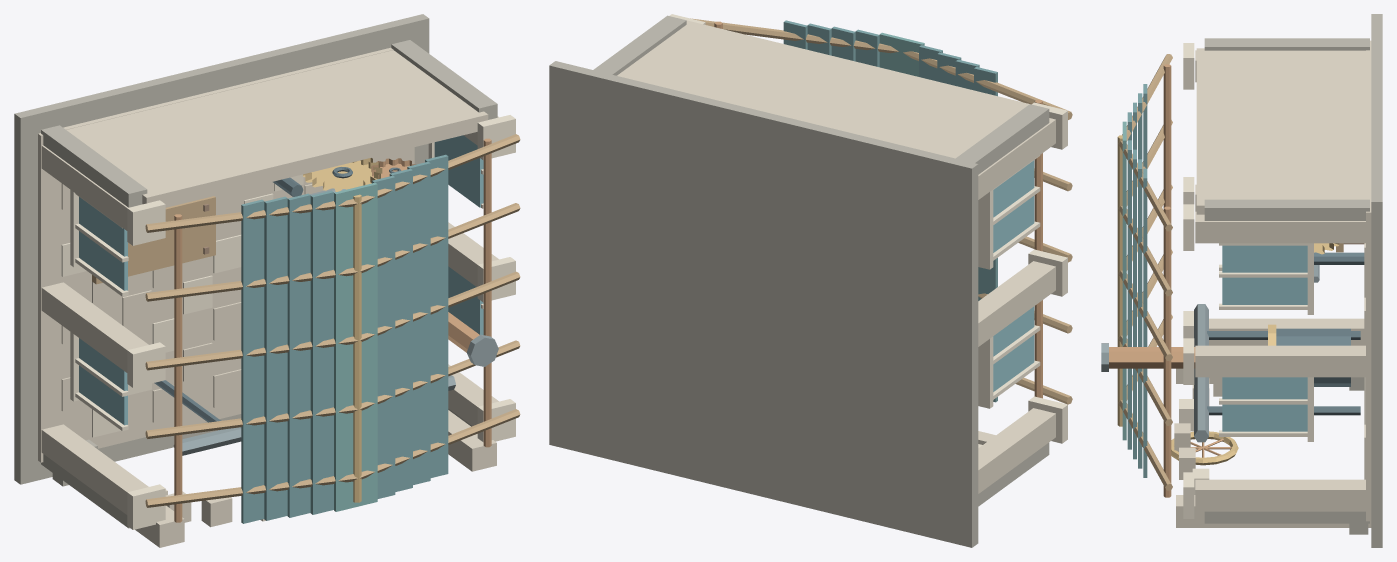
The model's file is founders_workshop_explorer.glb.
3 renders of one model, left to right at view 1: azimuth 30°, elevation 25°; view 2: azimuth 150°, elevation 25°; view 3: azimuth 270°, elevation 25°, orthographic. The views are drawn at different scales.
Visible parts, largest first — view 1: RearMasonry_0067, RaisedStonePlinth_0000, PolishedCourtyard_0001, StandingSeamRoof_0109, StandingSeamRoof_0110, StandingSeamRoof_0111, StandingSeamRoof_0108, StandingSeamRoof_0107, StandingSeamRoof_0122, StandingSeamRoof_0119, StandingSeamRoof_0121, StandingSeamRoof_0120 (+49 smaller); view 2: RaisedStonePlinth_0000, RearMasonry_0067, LimestoneButtress_0053, LimestoneButtress_0055, CornerFascia_0063, BlueGlazedWindow_0068, BlueGlazedWindow_0073, LimestoneButtress_0051, CornerFascia_0064, EaveGutter_0123, CopperRoofRafter_0112, WindowSill_0072 (+11 smaller); view 3: RearMasonry_0067, RaisedStonePlinth_0000, LimestoneButtress_0059, LimestoneButtress_0061, BlueGlazedWindow_0078, BlueGlazedWindow_0083, LimestoneButtress_0057, CornerFascia_0064, PolishedCourtyard_0001, LimestoneButtress_0055, CornerFascia_0063, CornerFascia_0066 (+37 smaller).
Boxes of the visible parts, box(x1,y1,x2,y2) form: RearMasonry_0067: box(66, 50, 488, 207); RaisedStonePlinth_0000: box(14, 14, 429, 484); PolishedCourtyard_0001: box(38, 47, 414, 462); StandingSeamRoof_0109: box(287, 193, 310, 517); StandingSeamRoof_0110: box(264, 196, 287, 520); StandingSeamRoof_0111: box(241, 199, 264, 523); StandingSeamRoof_0108: box(310, 190, 333, 514); StandingSeamRoof_0107: box(334, 187, 356, 511); StandingSeamRoof_0122: box(425, 154, 448, 477); StandingSeamRoof_0119: box(372, 175, 395, 498); StandingSeamRoof_0121: box(407, 161, 430, 484); StandingSeamRoof_0120: box(389, 168, 412, 491); RaisedStonePlinth_0000: box(549, 61, 978, 547); RearMasonry_0067: box(617, 20, 1029, 158); LimestoneButtress_0053: box(978, 261, 1055, 346); LimestoneButtress_0055: box(978, 408, 1055, 493); CornerFascia_0063: box(956, 104, 1049, 174); BlueGlazedWindow_0068: box(993, 160, 1034, 252); BlueGlazedWindow_0073: box(993, 306, 1034, 391); LimestoneButtress_0051: box(978, 118, 1055, 199); CornerFascia_0064: box(593, 15, 686, 75); EaveGutter_0123: box(1034, 99, 1042, 398); CopperRoofRafter_0112: box(690, 18, 898, 53); WindowSill_0072: box(978, 189, 993, 269); RearMasonry_0067: box(1196, 48, 1365, 214); RaisedStonePlinth_0000: box(1371, 14, 1382, 547); LimestoneButtress_0059: box(1195, 345, 1365, 377); LimestoneButtress_0061: box(1195, 479, 1365, 511); BlueGlazedWindow_0078: box(1222, 245, 1307, 304); BlueGlazedWindow_0083: box(1222, 377, 1307, 431); LimestoneButtress_0057: box(1195, 211, 1365, 243); CornerFascia_0064: box(1204, 199, 1369, 220); PolishedCourtyard_0001: box(1366, 40, 1371, 521); LimestoneButtress_0055: box(1209, 318, 1364, 345); CornerFascia_0063: box(1204, 38, 1369, 50); CornerFascia_0066: box(1204, 511, 1369, 523).
Size of the model in its own units: 14 by 12.03 by 8.85.
